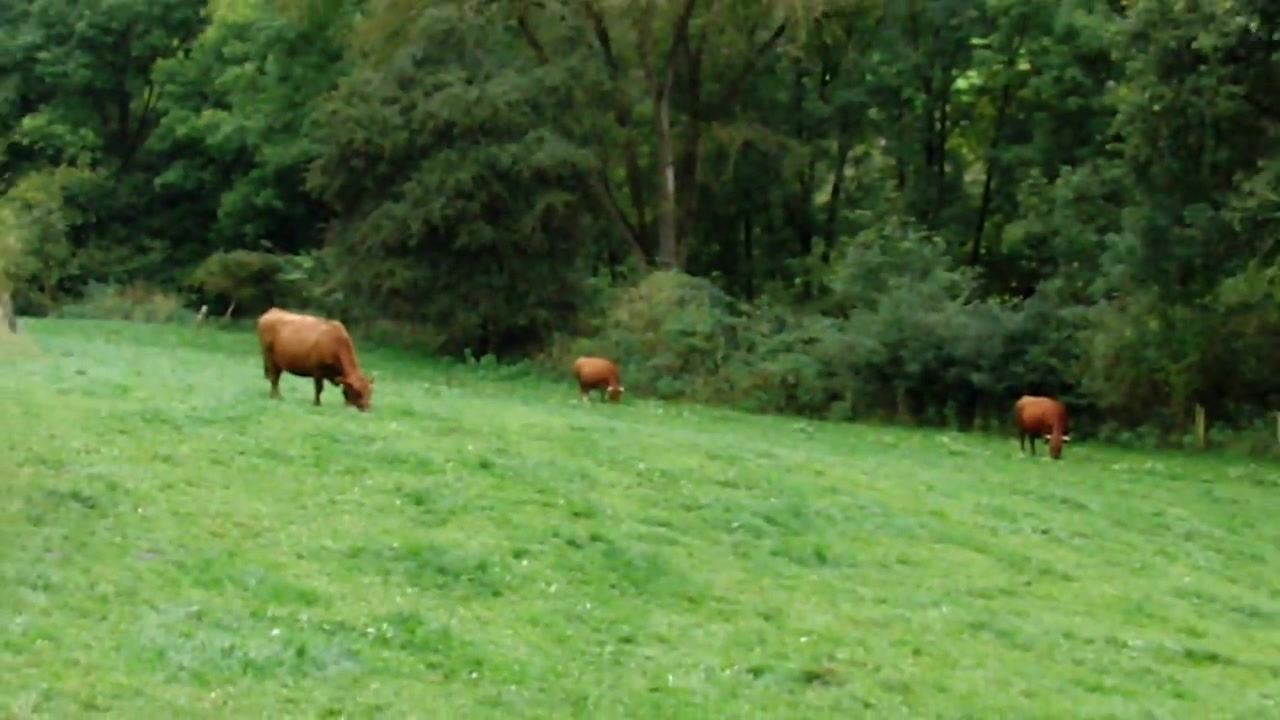cow: (252, 306, 377, 411)
